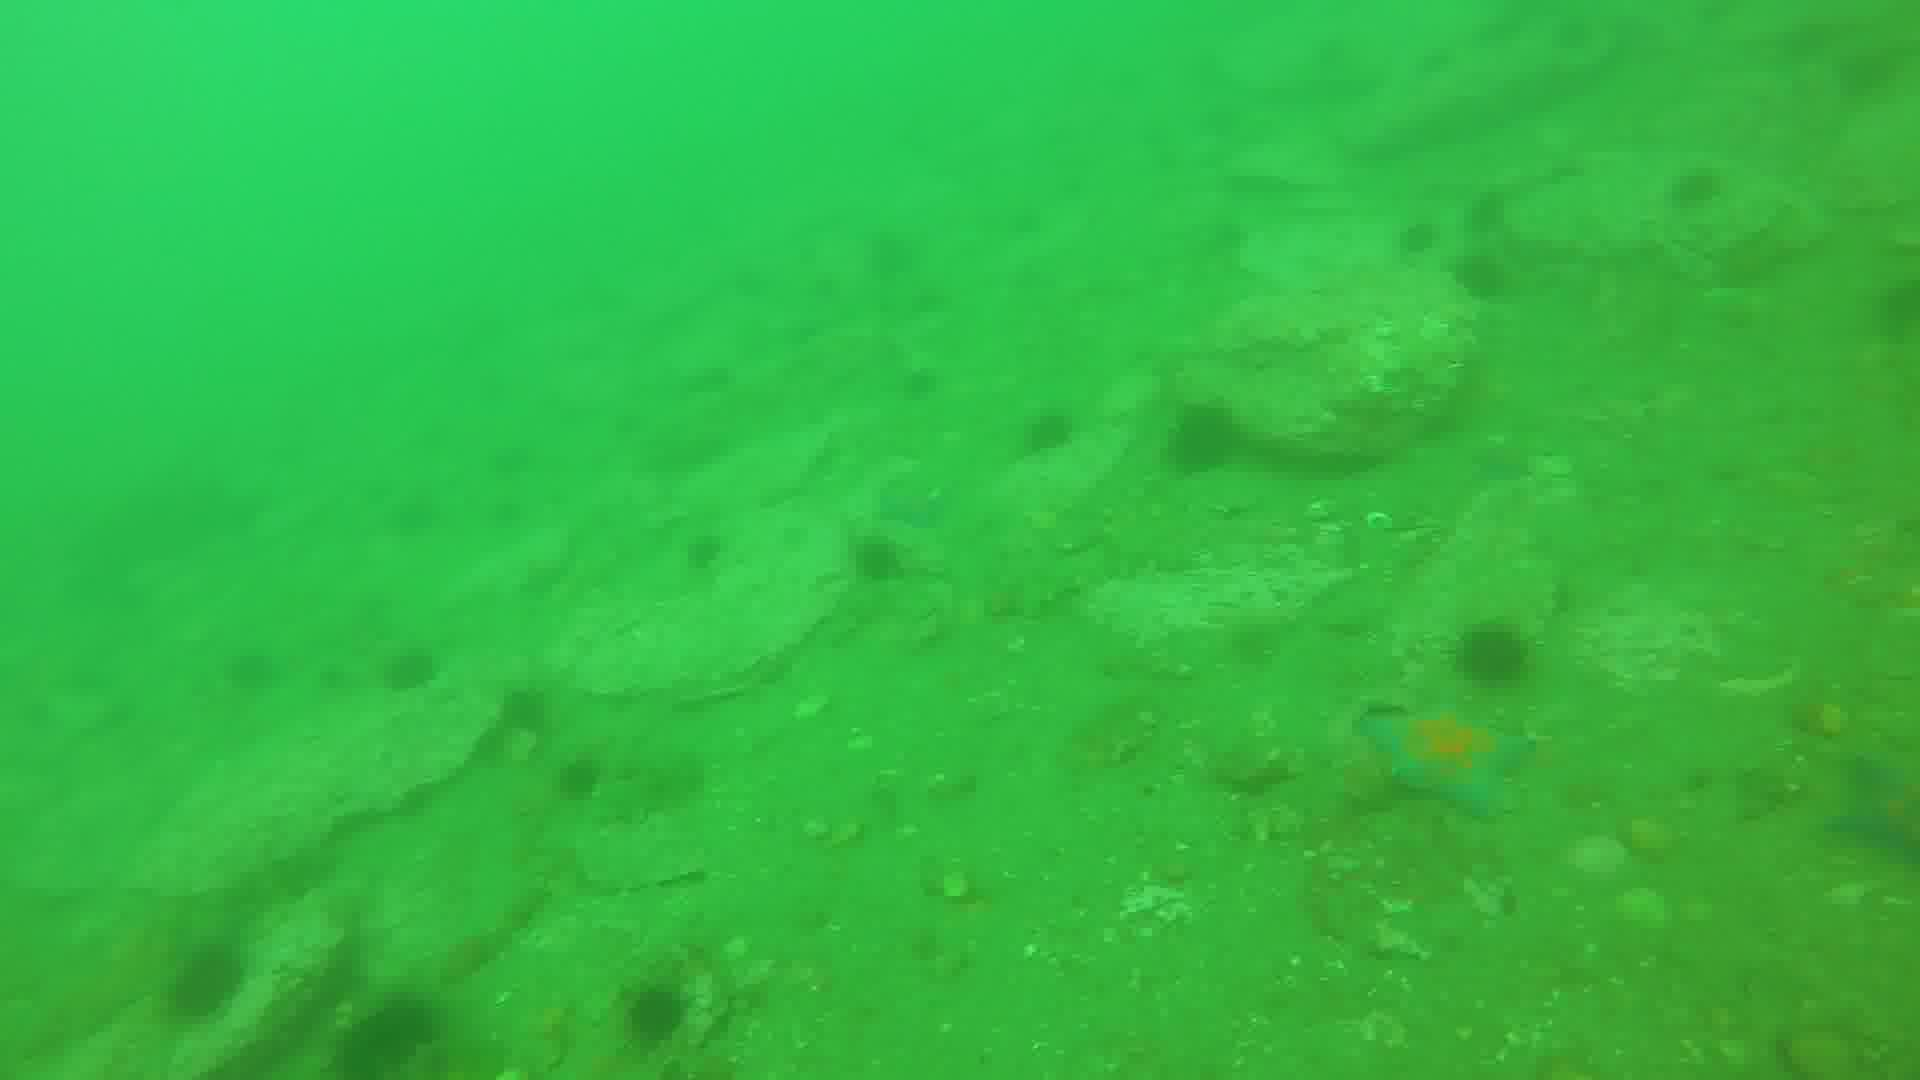echinus: (342, 1001, 444, 1080), (1164, 409, 1245, 475), (1461, 628, 1538, 688), (169, 945, 241, 1009), (626, 986, 691, 1046), (554, 750, 615, 800), (381, 647, 444, 694), (1676, 169, 1727, 214), (1033, 417, 1087, 455), (229, 647, 277, 688), (684, 539, 731, 571)
holothurian: (596, 754, 707, 829)
starfish: (1356, 696, 1539, 819), (1832, 757, 1920, 877), (873, 473, 953, 527)
